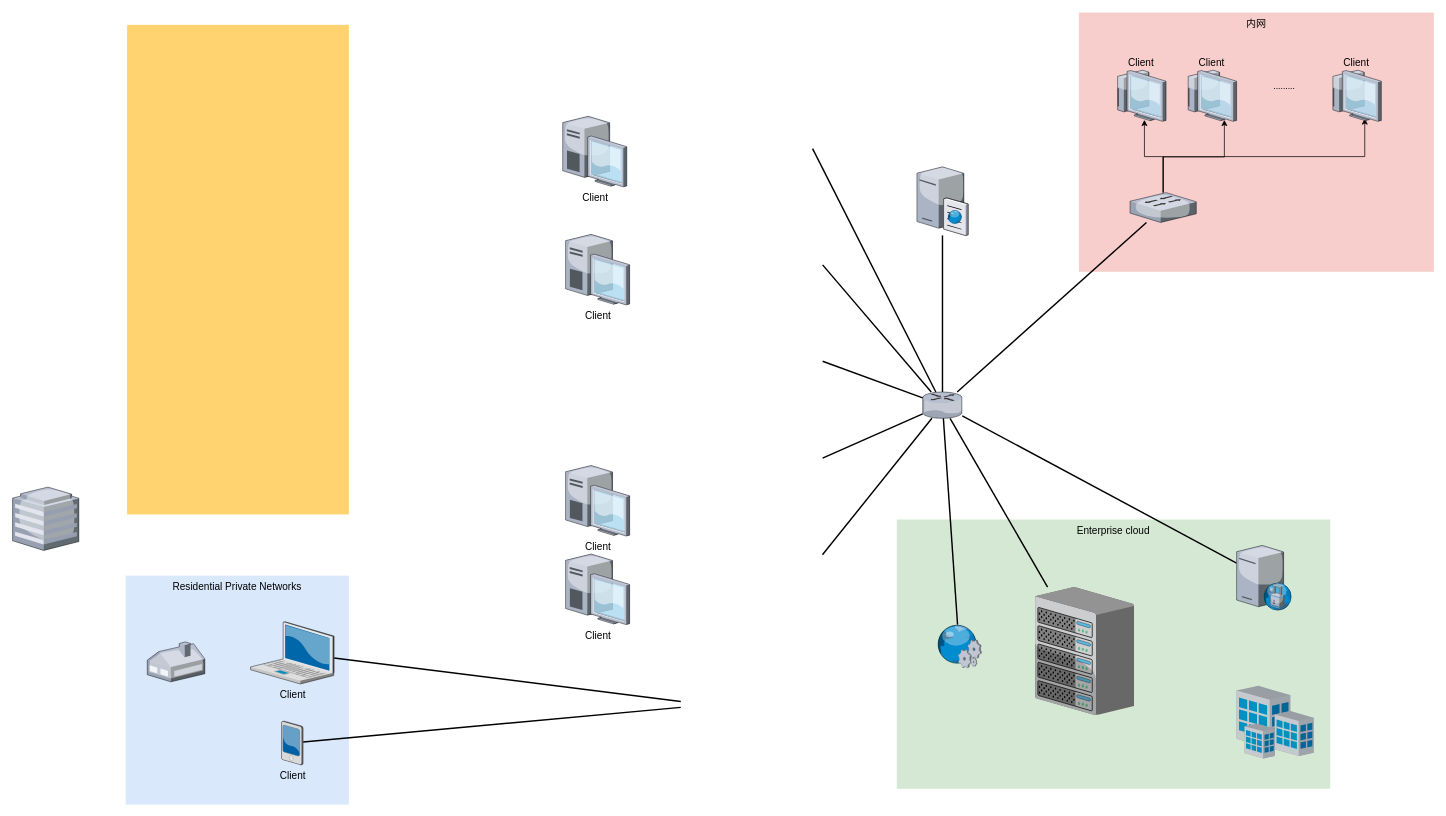
Image size: 1446x816. Some labels were removed from this diagram. The centre of each missing label's shape, as x and y in pixels:
"DNS" belongs at point 1084,651.
"Enterprise Networks" belongs at point 237,269.
"Secure Server" belongs at point 1263,577.
"Web Server" belongs at point 942,200.
"Web service" belongs at point 958,645.
